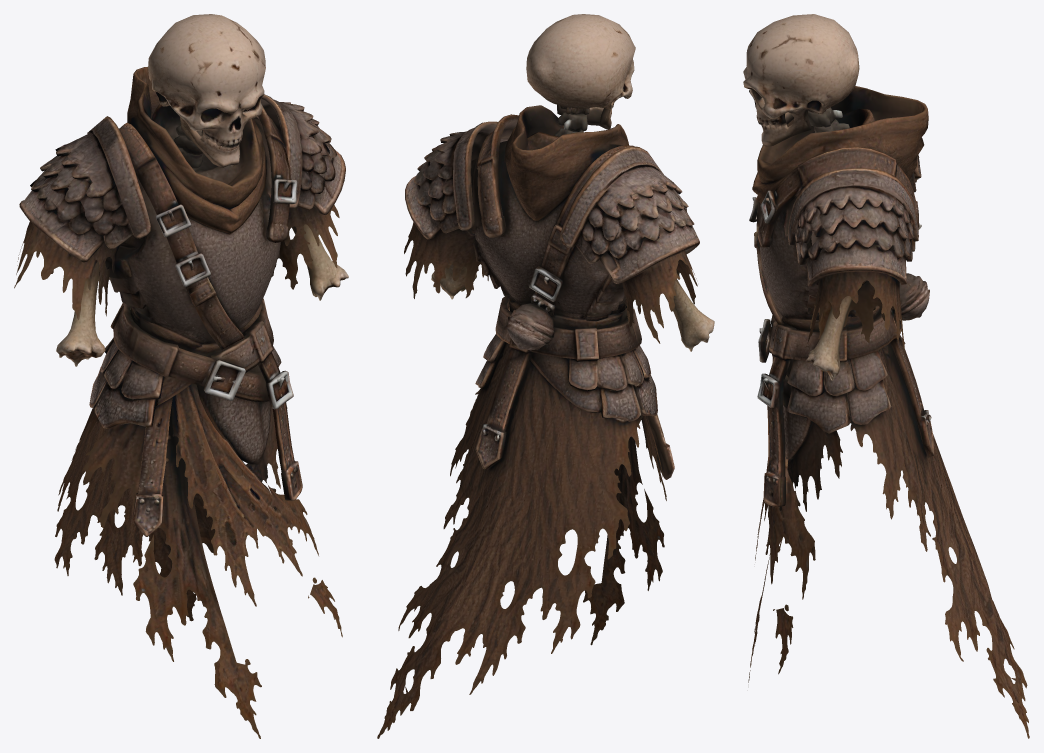
File: skeleton_torso.glb
3 renders of one model, left to right at view 1: azimuth 30°, elevation 25°; view 2: azimuth 150°, elevation 25°; view 3: azimuth 270°, elevation 25°, orthographic. The views are drawn at different scales.
Visible parts, largest first — view 1: tripo_node_638fad97-c2f9-4224-8d5e-b9deb55d7d07; view 2: tripo_node_638fad97-c2f9-4224-8d5e-b9deb55d7d07; view 3: tripo_node_638fad97-c2f9-4224-8d5e-b9deb55d7d07.
Boxes of the visible parts, x1=… form: tripo_node_638fad97-c2f9-4224-8d5e-b9deb55d7d07: x1=14, y1=14, x2=348, y2=738; tripo_node_638fad97-c2f9-4224-8d5e-b9deb55d7d07: x1=377, y1=14, x2=714, y2=738; tripo_node_638fad97-c2f9-4224-8d5e-b9deb55d7d07: x1=743, y1=14, x2=1029, y2=738.
Size of the model in its own units: 0.4487 by 0.9995 by 0.3862.
Materials: 1 (1 with a texture image).
